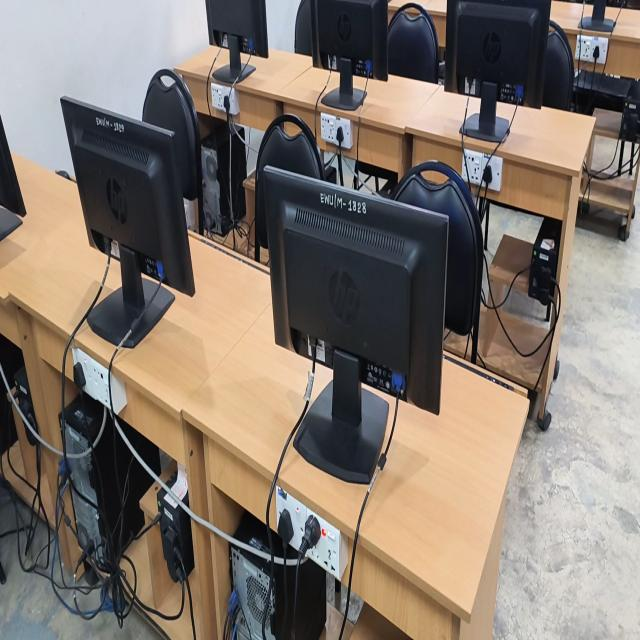Chair: (390, 160, 484, 362), (255, 114, 325, 259), (143, 69, 204, 231), (388, 4, 442, 84), (543, 21, 574, 111), (295, 0, 311, 55)
Cpu: (59, 394, 154, 559), (229, 548, 295, 639), (201, 123, 247, 236), (117, 418, 161, 476), (296, 558, 326, 639), (234, 511, 270, 553)
Monitor: (265, 167, 447, 484), (61, 97, 195, 347), (444, 0, 551, 142), (310, 0, 387, 110), (205, 0, 268, 84), (0, 117, 26, 241)
